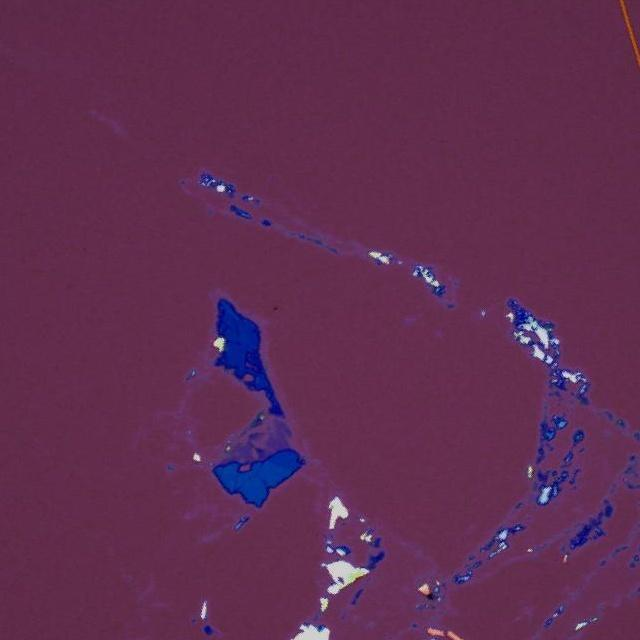monolayer-eWW4: (267, 420, 288, 450), (222, 443, 252, 463)
